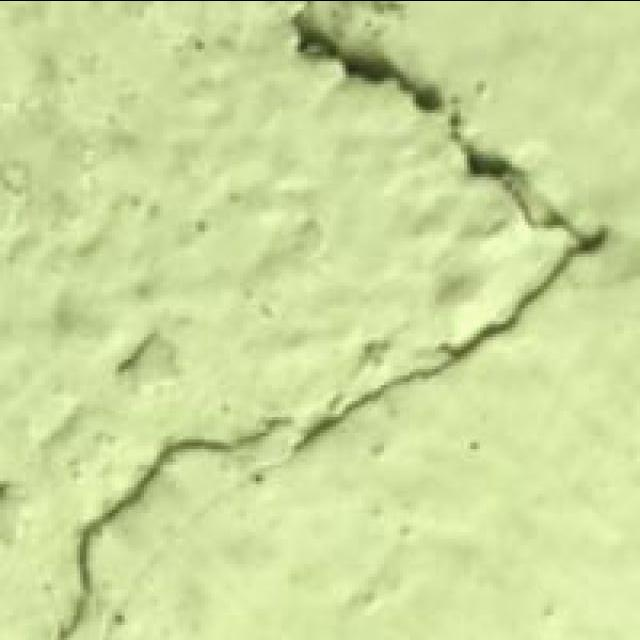SurfaceCrack: (46, 34, 604, 640)
